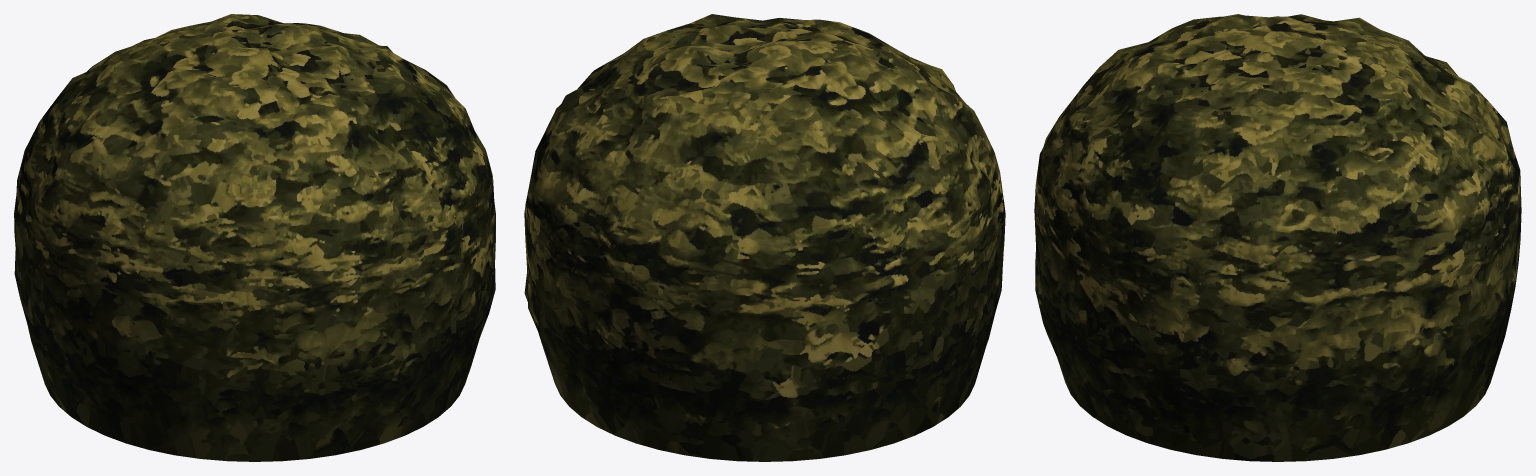
The model's file is shrub_round.glb.
3 renders of one model, left to right at view 1: azimuth 30°, elevation 25°; view 2: azimuth 150°, elevation 25°; view 3: azimuth 270°, elevation 25°, orthographic.
Parts seen in each view (by area): view 1: body; view 2: body; view 3: body.
Boxes of the visible parts, x1=… form: body: x1=14, y1=14, x2=495, y2=461; body: x1=524, y1=14, x2=1005, y2=461; body: x1=1034, y1=14, x2=1521, y2=461.
Bounding box in the file's own units: 1.1 × 0.82 × 1.1.
1 material, 1 textured.
